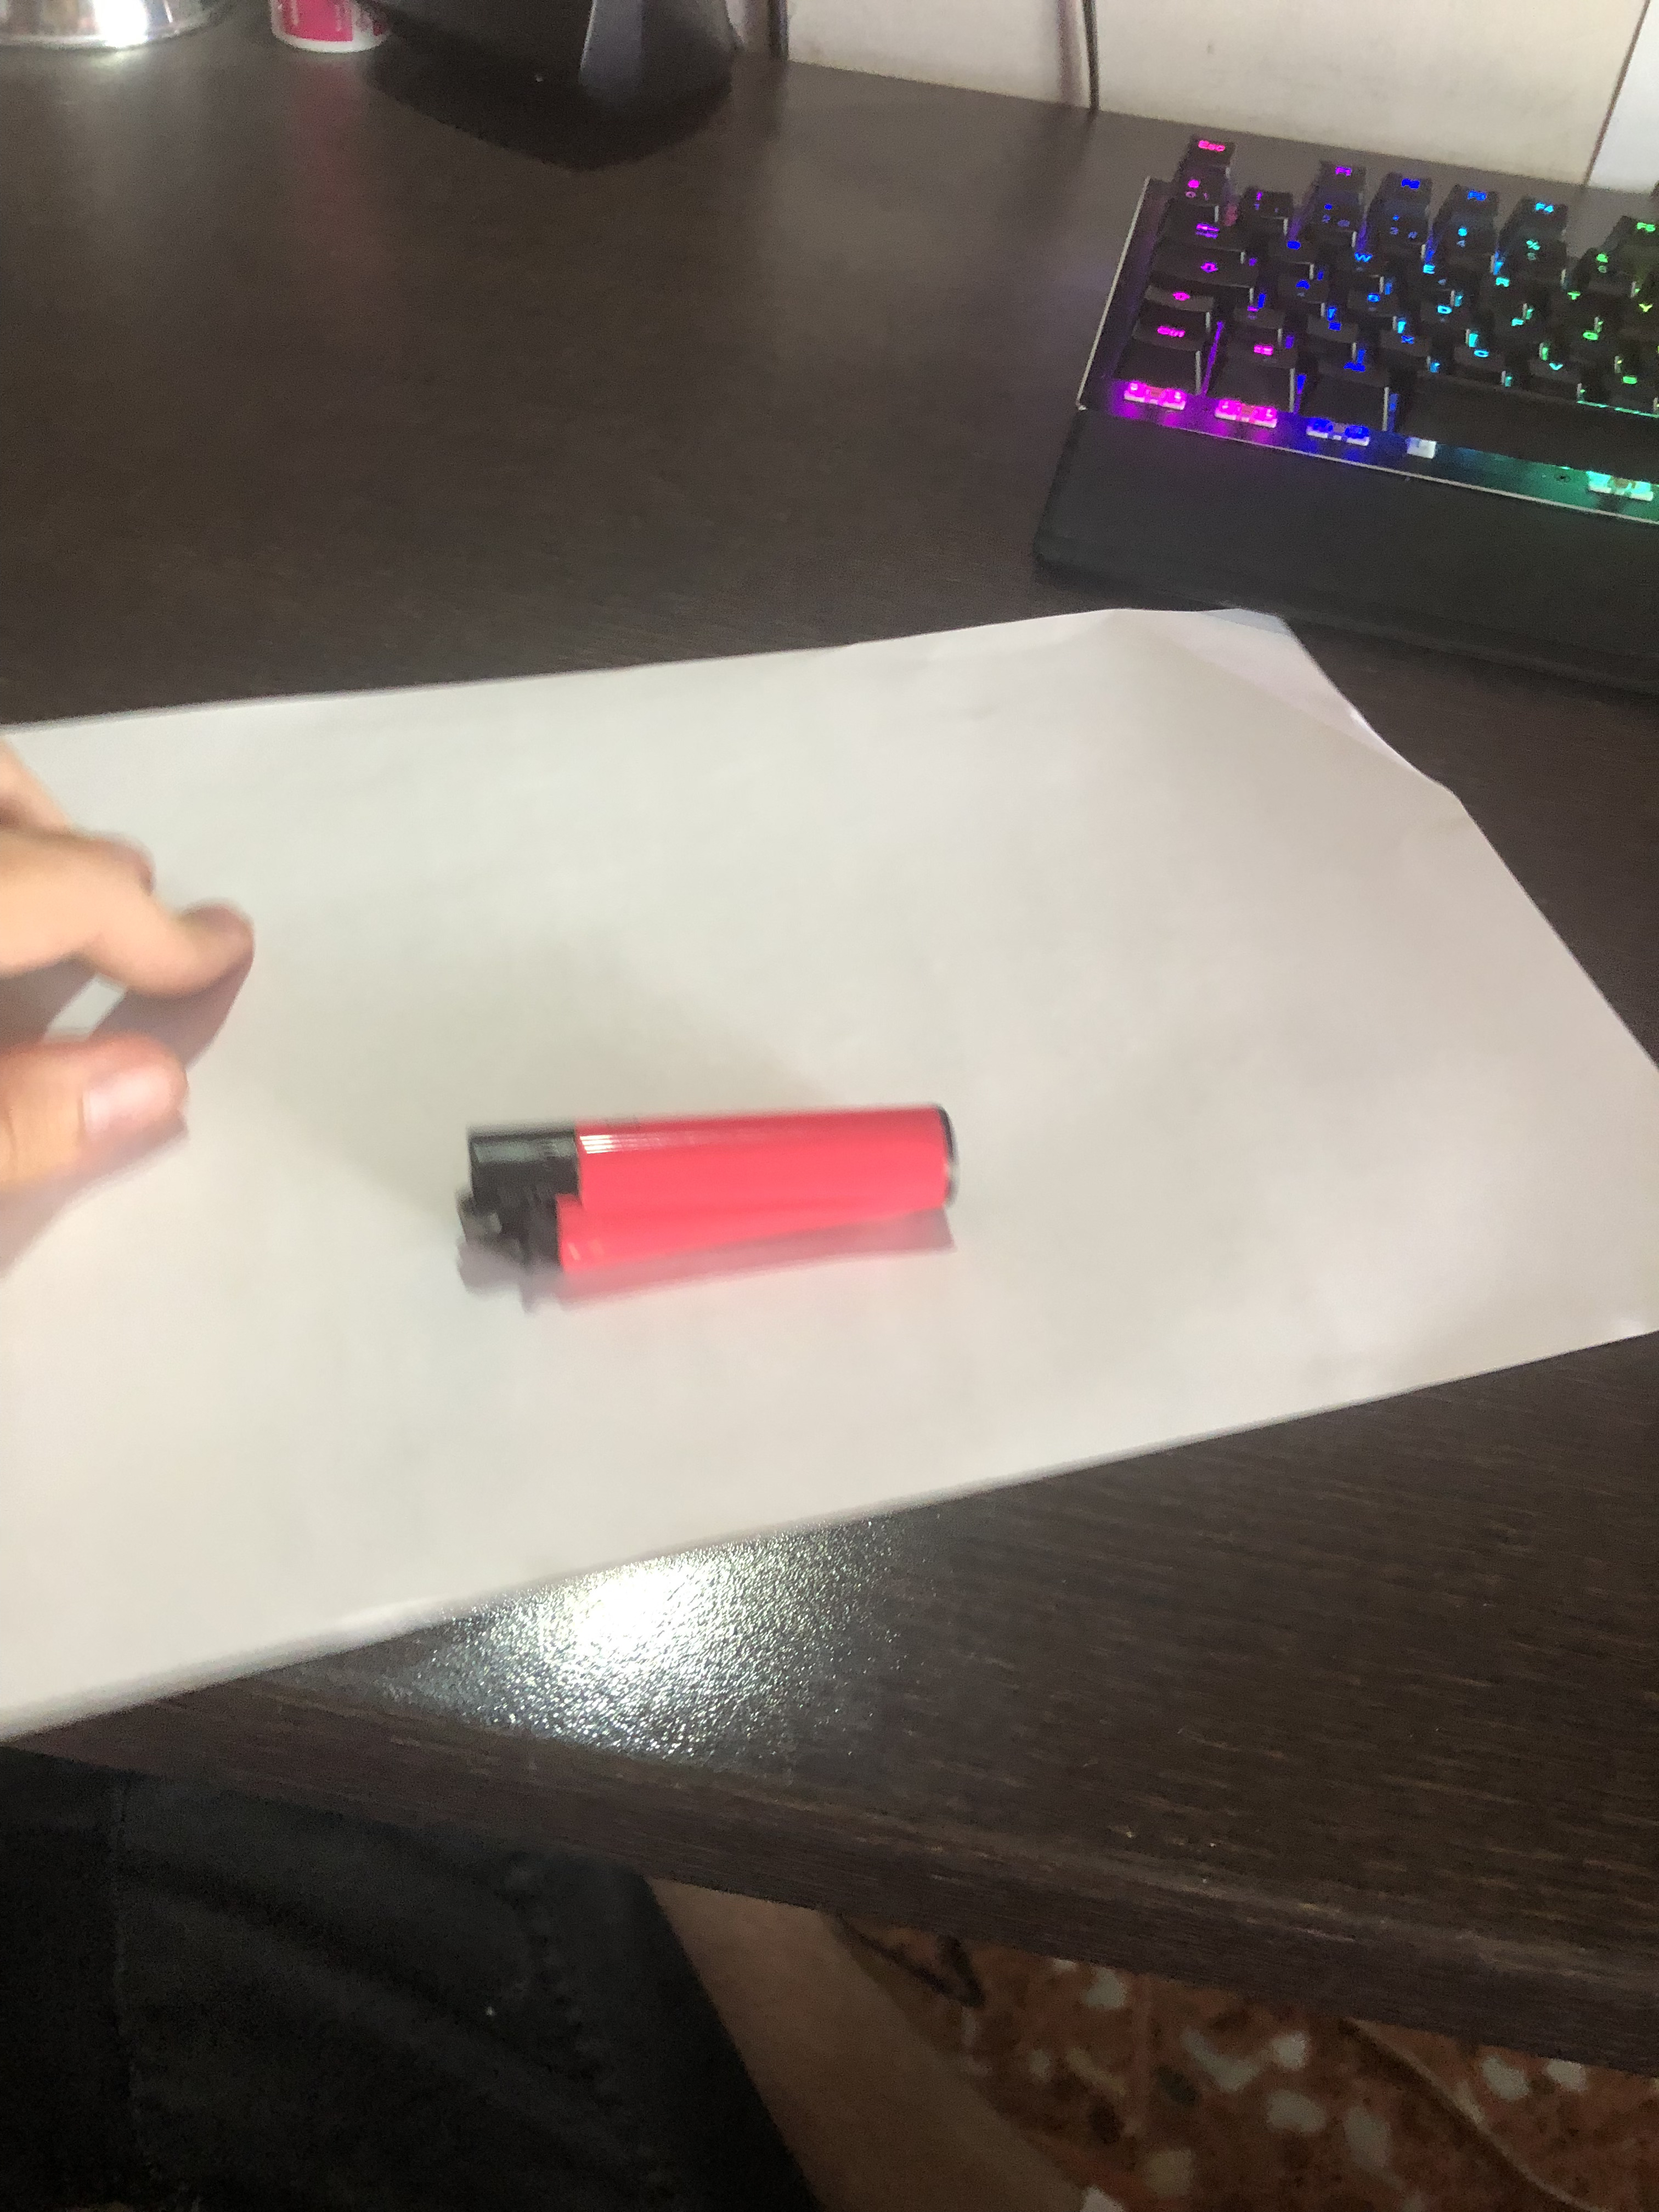Mechero: (340, 1087, 1006, 1287)
